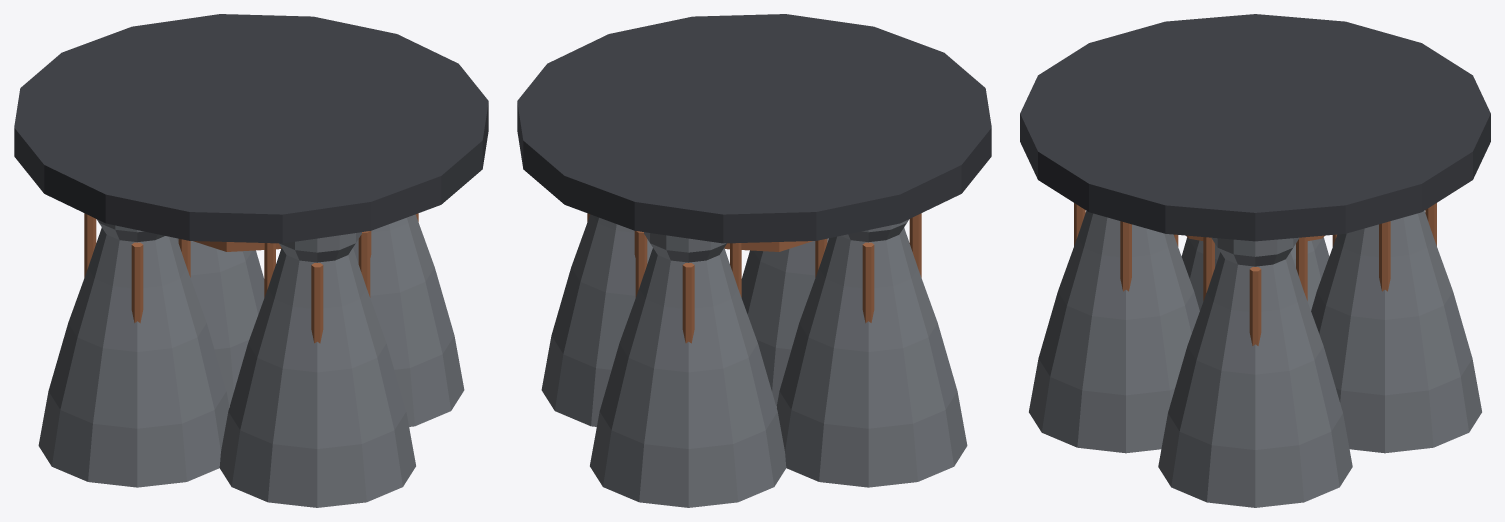
Rendered from Eng_L_Cluster4.fbx.
The picture shows the model from 3 angles, left to right: view 1: azimuth 30°, elevation 25°; view 2: azimuth 150°, elevation 25°; view 3: azimuth 270°, elevation 25°; orthographic projection.
Visible parts, largest first — view 1: Eng_L_Cluster4; view 2: Eng_L_Cluster4; view 3: Eng_L_Cluster4.
Boxes of the visible parts, x1,y1,x2,y2 form: Eng_L_Cluster4: [14, 14, 488, 507]; Eng_L_Cluster4: [517, 14, 991, 507]; Eng_L_Cluster4: [1020, 14, 1490, 507].
Bounding box in the file's own units: 3 × 2.1 × 3.
1 material, 1 textured.
